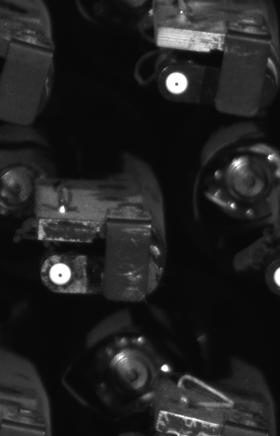fiber: (155, 66, 196, 103), (45, 257, 81, 293)
